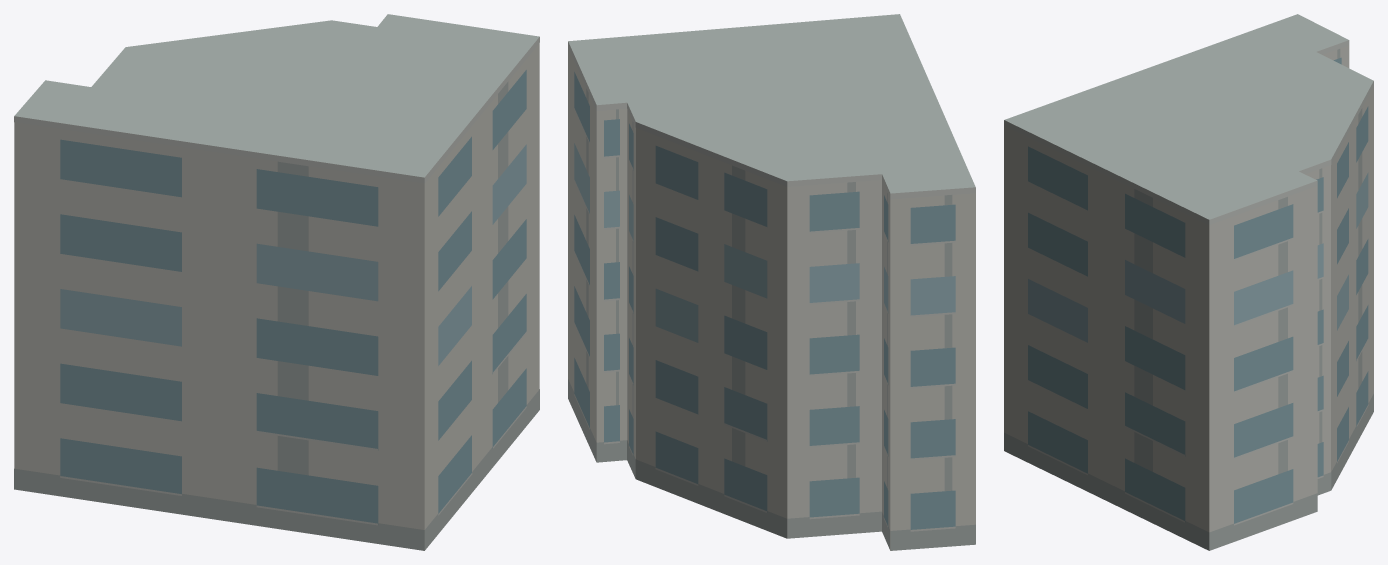
The model's file is survey-upis-32642509.glb.
3 renders of one model, left to right at view 1: azimuth 30°, elevation 25°; view 2: azimuth 150°, elevation 25°; view 3: azimuth 270°, elevation 25°, orthographic. The views are drawn at different scales.
Visible parts, largest first — view 1: survey-upis-32642509.tmp; view 2: survey-upis-32642509.tmp; view 3: survey-upis-32642509.tmp.
Boxes of the visible parts, bbox=[...] form: survey-upis-32642509.tmp: bbox=[14, 14, 539, 550]; survey-upis-32642509.tmp: bbox=[568, 14, 975, 550]; survey-upis-32642509.tmp: bbox=[1004, 14, 1373, 550].
Size of the model in its own units: 20.01 by 15 by 15.19.
